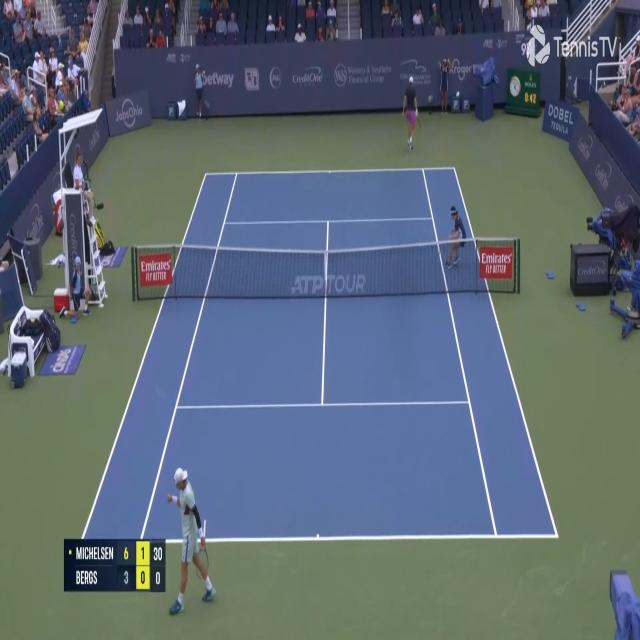tennis-player: (166, 464, 218, 620), (400, 75, 420, 153)
